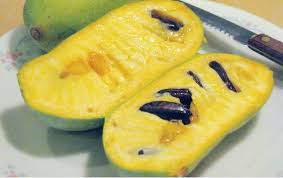papaya: (16, 1, 199, 134), (100, 54, 276, 176)
